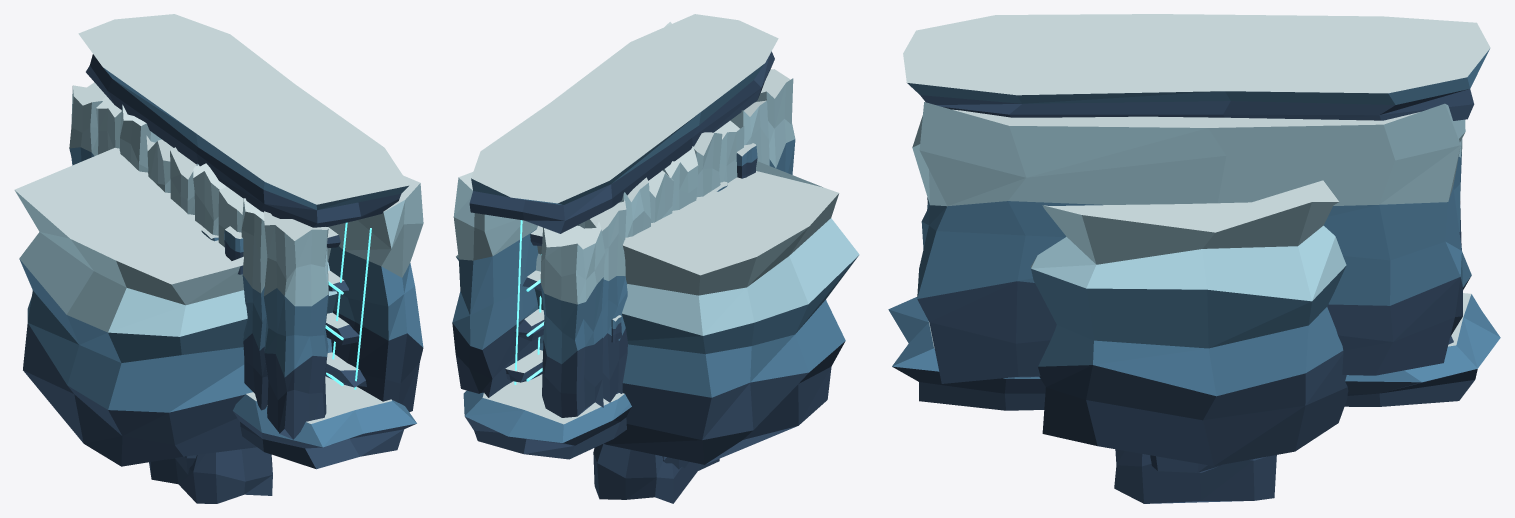
File: glasswake-environment.glb
3 views of the same model, side by side, from view 1: azimuth 30°, elevation 25°; view 2: azimuth 150°, elevation 25°; view 3: azimuth 270°, elevation 25° (orthographic). The views are drawn at different scales.
Visible parts, largest first — view 1: far_fragment, calving_roof, calving_back, calving_chunk_08, calving_floor, cliff_2, calving_chunk_07, calving_chunk_00, calving_chunk_05, calving_chunk_02, calving_chunk_04, calving_chunk_01 (+5 smaller); view 2: far_fragment, calving_roof, calving_back, calving_chunk_00, calving_floor, cliff_2, calving_chunk_01, calving_chunk_08, calving_chunk_05, calving_chunk_07, calving_chunk_04, calving_chunk_02 (+5 smaller); view 3: calving_back, far_fragment, calving_roof, calving_floor, cliff_2, cliff_0.
Boxes of the visible parts, x1,y1,x2,y2 form: far_fragment: (14,148,337,466); calving_roof: (78,14,409,227); calving_back: (328,175,423,412); calving_chunk_08: (263,211,328,439); calving_floor: (233,376,416,469); cliff_2: (149,447,272,503); calving_chunk_07: (241,198,268,410); calving_chunk_00: (69,82,105,165); calving_chunk_05: (193,163,226,235); calving_chunk_02: (119,104,161,172); calving_chunk_04: (170,147,198,214); calving_chunk_01: (96,95,121,154); far_fragment: (456,161,859,464); calving_roof: (469,14,778,233); calving_back: (452,22,671,397); calving_chunk_00: (540,222,604,417); calving_floor: (463,374,631,459); cliff_2: (593,444,719,503); calving_chunk_01: (577,199,627,402); calving_chunk_08: (755,69,795,174); calving_chunk_05: (692,132,722,197); calving_chunk_07: (730,100,769,165); calving_chunk_04: (663,146,698,210); calving_chunk_02: (619,177,651,284); calving_back: (912,102,1471,383); far_fragment: (1030,180,1348,465); calving_roof: (903,14,1490,120); calving_floor: (888,293,1500,410); cliff_2: (1114,449,1276,503); cliff_0: (1150,455,1220,472).
Size of the model in its own units: 348 by 399 by 491.
